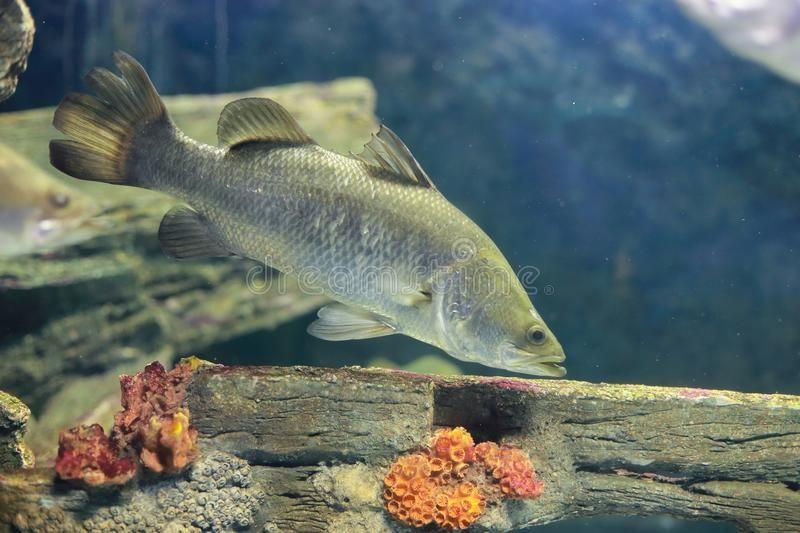Silver Perch: (12, 43, 579, 380)
